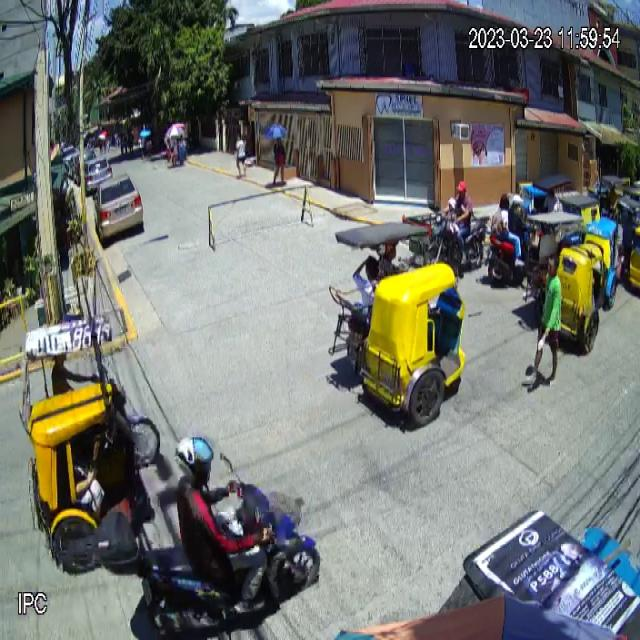Motorcycle: (136, 452, 323, 640)
Tricycle: (18, 316, 160, 574), (329, 221, 468, 422), (524, 208, 601, 352)
